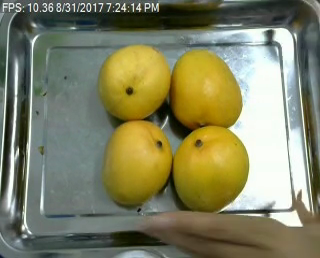Mango: (170, 126, 249, 212), (101, 120, 172, 206), (171, 50, 240, 131), (96, 45, 170, 119)
